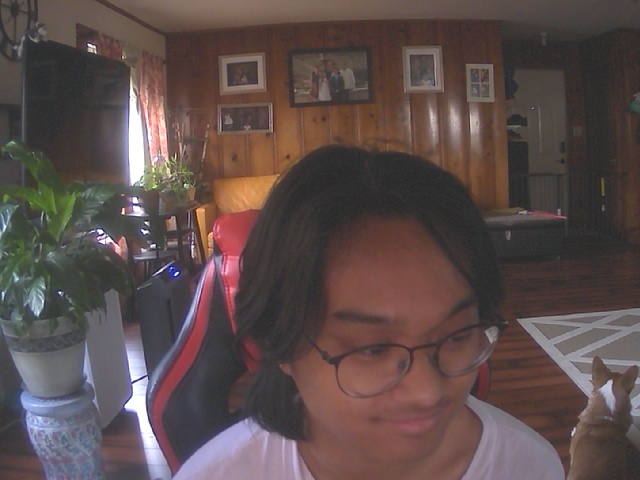happy: (268, 157, 511, 467)
